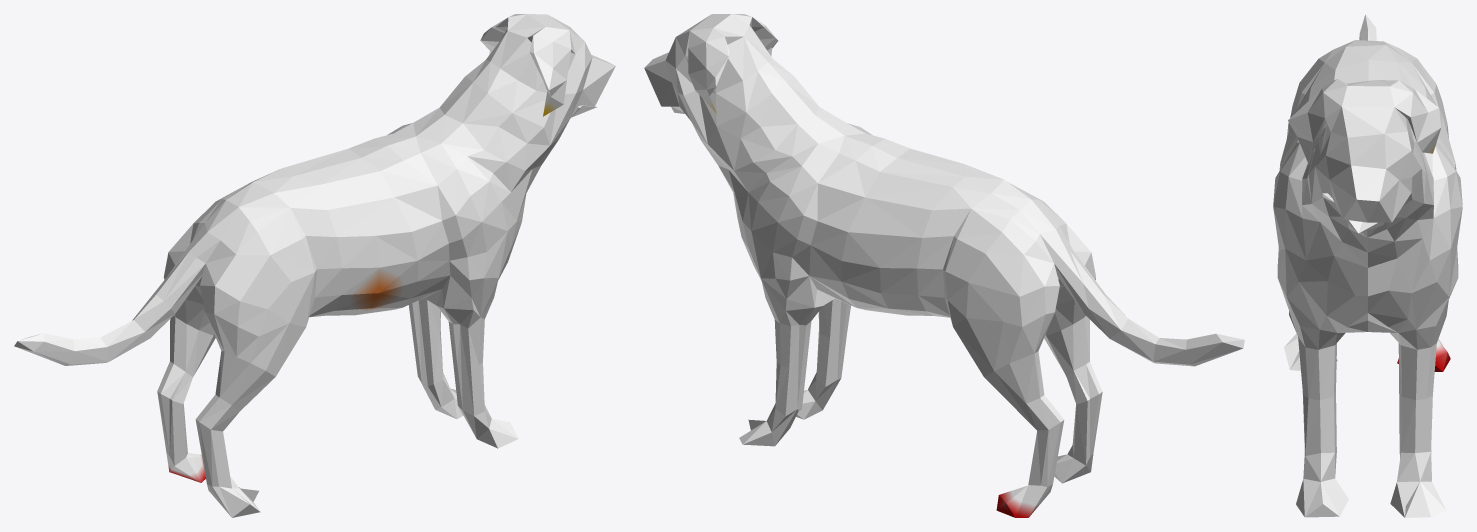
The model's file is minAlphaTarget.obj.
3 renders of one model, left to right at view 1: azimuth 30°, elevation 25°; view 2: azimuth 150°, elevation 25°; view 3: azimuth 270°, elevation 25°, orthographic. The views are drawn at different scales.
Bounding box in the file's own units: 1.42 × 0.8938 × 0.3318.
Materials: 1 (1 with a texture image).
